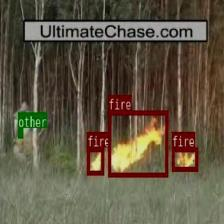fire: (108, 110, 168, 176), (172, 147, 198, 171), (86, 147, 104, 174)
